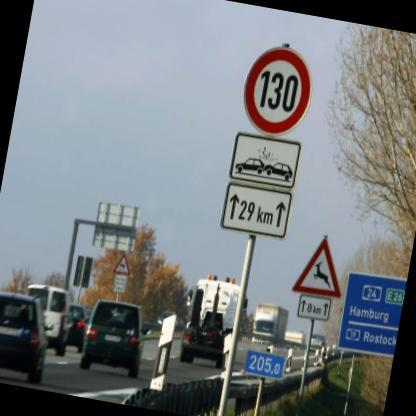road_sign: (245, 46, 310, 133), (230, 132, 301, 188), (222, 183, 292, 238), (292, 236, 341, 298), (297, 294, 332, 321)
